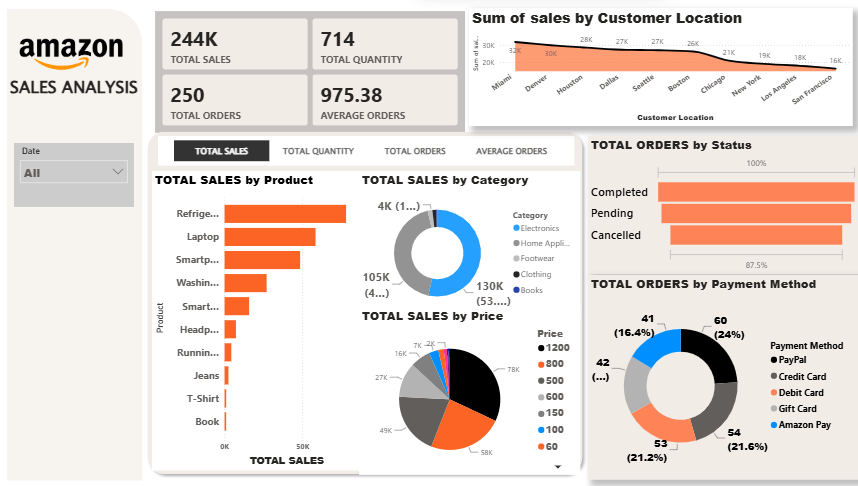

What the dashboard file says about the page in this screenshot:
{"tool":"powerbi","page":{"name":"Page 1","canvas":[1400,800],"ordinal":0},"visuals":[{"type":"shape","box":[10.9,15.6,220.3,767.2],"z":0},{"type":"image","box":[0,42.2,231.2,95.3],"z":1000},{"type":"cardVisual","fields":{"Data":["amazon_sales_data_2025[1].TOTAL SALES","amazon_sales_data_2025[1].TOTAL QUANTITY","amazon_sales_data_2025[1].TOTAL ORDERS","amazon_sales_data_2025[1].AVERAGE ORDERS"]},"box":[247.2,14.6,515.4,208.1],"z":2000},{"type":"shape","box":[231.7,206.7,725,575],"z":3000},{"type":"slicer","fields":{"Values":["metrics.metrics"]},"box":[256.7,223.3,676.7,48.3],"z":4000},{"type":"donutChart","fields":{"Y":["amazon_sales_data_2025[1].TOTAL SALES"],"Category":["amazon_sales_data_2025[1].Category"]},"box":[583.3,280,360,240],"z":5000},{"type":"clusteredBarChart","fields":{"Y":["amazon_sales_data_2025[1].TOTAL SALES"],"Category":["amazon_sales_data_2025[1].Product"]},"box":[246.7,280,336.7,486.7],"z":6000},{"type":"pieChart","fields":{"Y":["amazon_sales_data_2025[1].TOTAL SALES"],"Category":["amazon_sales_data_2025[1].Price"]},"box":[583.3,500,360,273.3],"z":7000},{"type":"lineChart","fields":{"Category":["amazon_sales_data_2025[1].Customer Location"],"Y":["Sum(amazon_sales_data_2025[1].sales)"]},"box":[762.6,14.6,624.4,191.9],"z":8000},{"type":"funnel","fields":{"Y":["amazon_sales_data_2025[1].TOTAL ORDERS"],"Category":["amazon_sales_data_2025[1].Status"]},"box":[956.7,223.3,443.3,225],"z":9000},{"type":"donutChart","fields":{"Y":["amazon_sales_data_2025[1].TOTAL ORDERS"],"Category":["amazon_sales_data_2025[1].Payment Method"]},"box":[956.7,448.3,443.3,333.3],"z":10000},{"type":"slicer","fields":{"Values":["amazon_sales_data_2025[1].Date"]},"box":[23.3,233.3,195,104],"z":11000},{"type":"actionButton","box":[0,0,100,40],"z":12000},{"type":"textbox","box":[11.4,118.7,239,66.7],"z":13000}]}

Visuals, with their boxes in screenshot pixels (x1, y1, x2, y2), scaled from the page's 1400x800 canvas onto the 858x486 screenshot:
shape: 7, 9, 142, 476
image: 0, 26, 142, 84
cardVisual - amazon_sales_data_2025[1].TOTAL SALES x amazon_sales_data_2025[1].TOTAL QUANTITY: 151, 9, 467, 135
shape: 142, 126, 586, 475
slicer - metrics.metrics: 157, 136, 572, 165
donutChart - amazon_sales_data_2025[1].TOTAL SALES x amazon_sales_data_2025[1].Category: 357, 170, 578, 316
clusteredBarChart - amazon_sales_data_2025[1].TOTAL SALES x amazon_sales_data_2025[1].Product: 151, 170, 358, 466
pieChart - amazon_sales_data_2025[1].TOTAL SALES x amazon_sales_data_2025[1].Price: 357, 304, 578, 470
lineChart - amazon_sales_data_2025[1].Customer Location x Sum(amazon_sales_data_2025[1].sales): 467, 9, 850, 125
funnel - amazon_sales_data_2025[1].TOTAL ORDERS x amazon_sales_data_2025[1].Status: 586, 136, 857, 272
donutChart - amazon_sales_data_2025[1].TOTAL ORDERS x amazon_sales_data_2025[1].Payment Method: 586, 272, 857, 475
slicer - amazon_sales_data_2025[1].Date: 14, 142, 134, 205
actionButton: 0, 0, 61, 24
textbox: 7, 72, 153, 113
